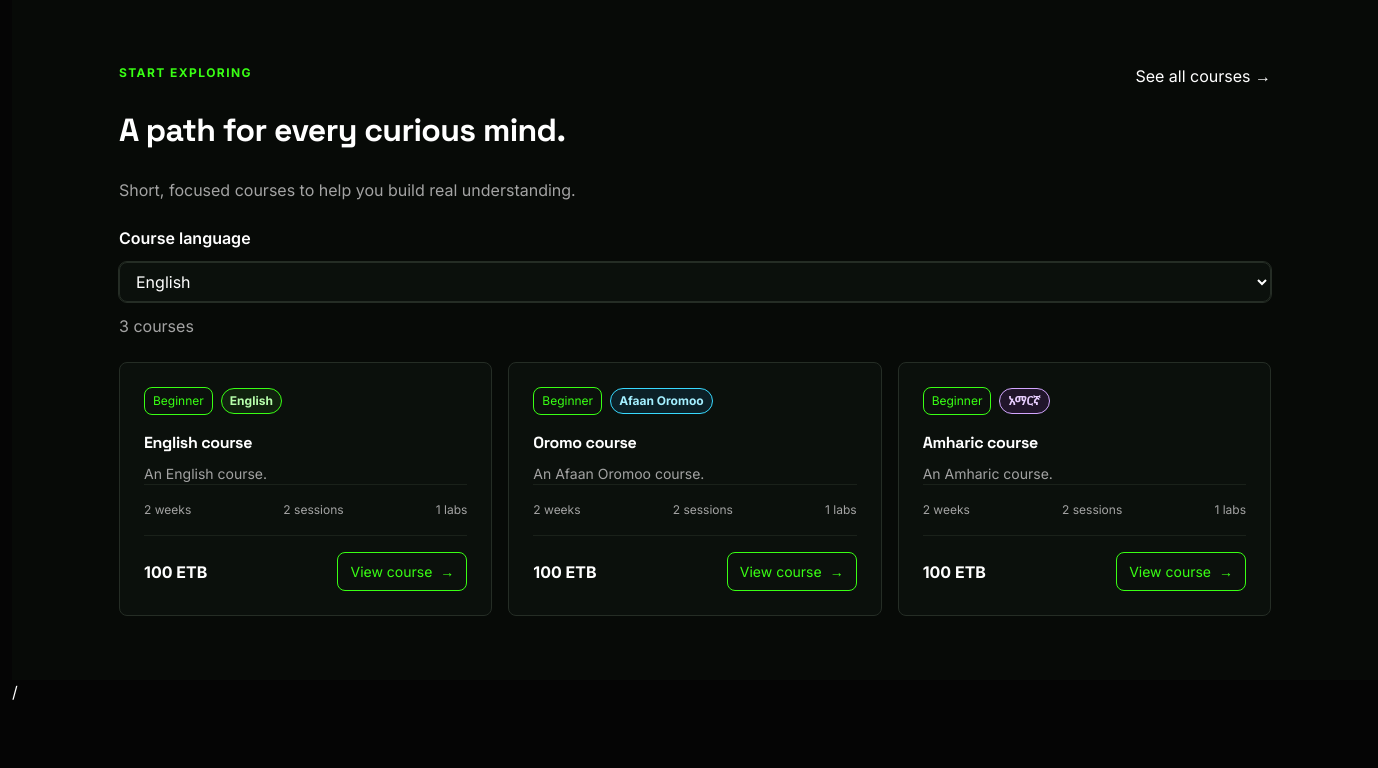
Test: course language filter › updates the visible courses and shareable URL when the selector changes
The image size is (1378, 768).
Check: the heading "English course" is shown, box [144,432,252,453]
Check: the heading "Oromo course" is shown, box [533,432,636,453]
Step 1. Select "Afaan Oromoo" in the dropdown named "Filter courses by teaching language" → (695, 282), box [119,262,1271,302]
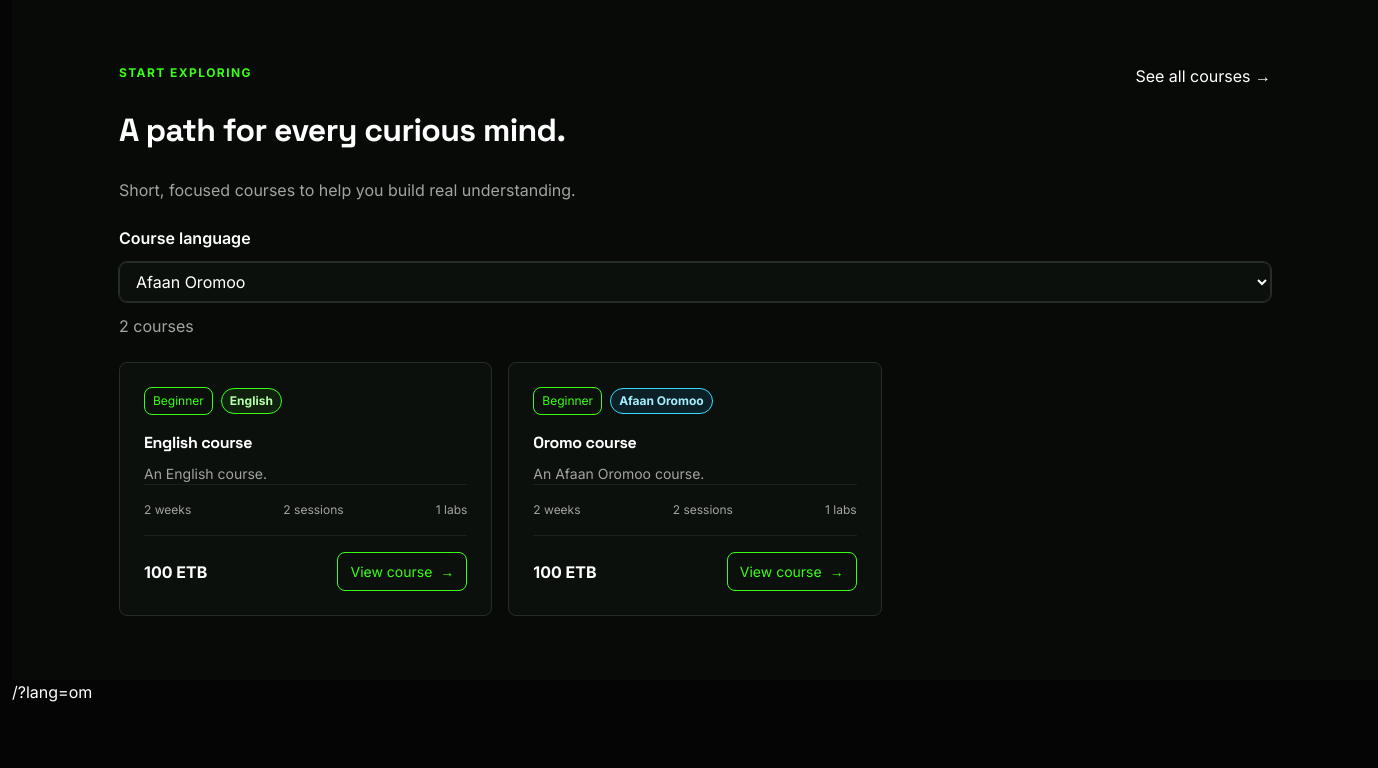
Check: the heading "English course" is shown, box [144,432,252,453]
Check: the text with test id "location" reads "/?lang=om", box [12,682,92,702]
Check: the heading "Amharic course" is gone
